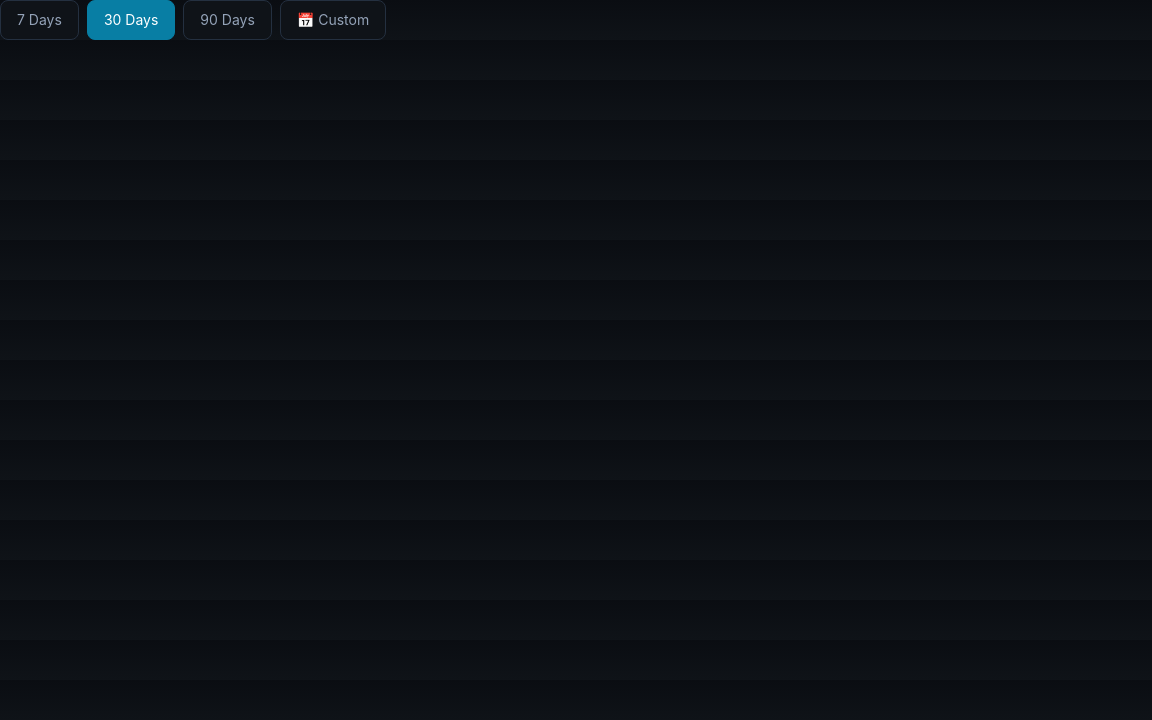
Scenario: DateRangePicker Component › disables apply when a custom date field is cleared
Click the button "📅 Custom": (333, 20) left=280, top=0, right=386, bottom=40
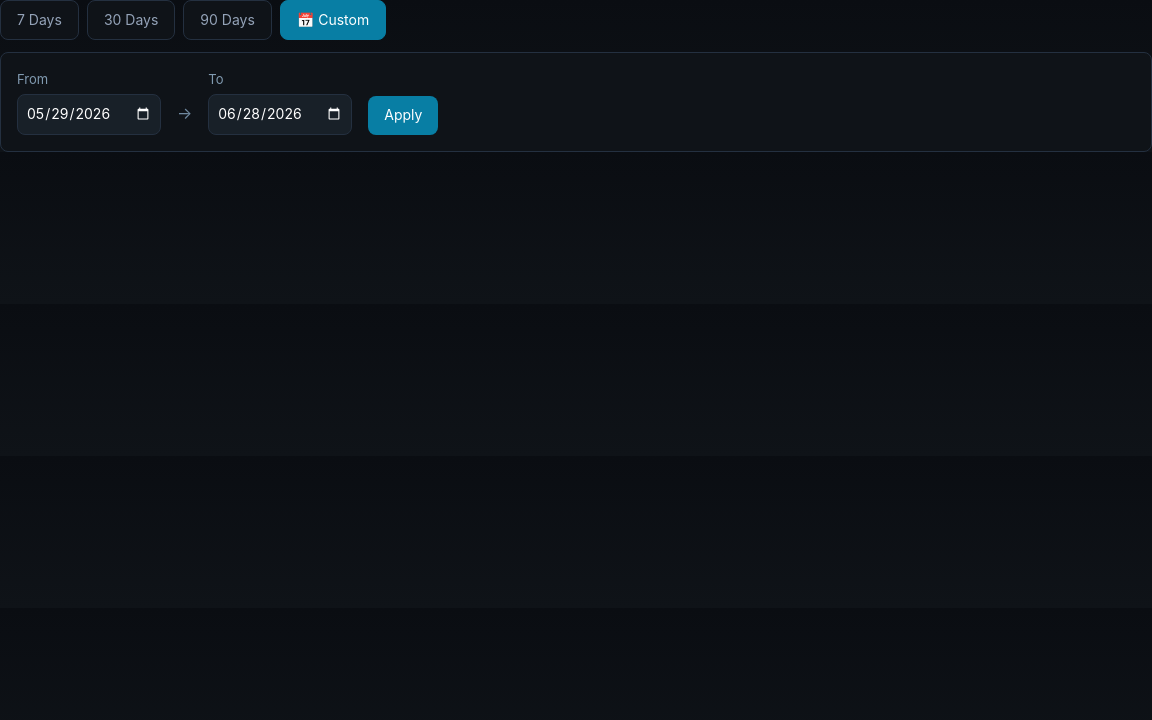
Result: the button "Apply" is enabled at left=368, top=96, right=438, bottom=135
Clear the date field labelled "To": (280, 114) left=208, top=94, right=352, bottom=135
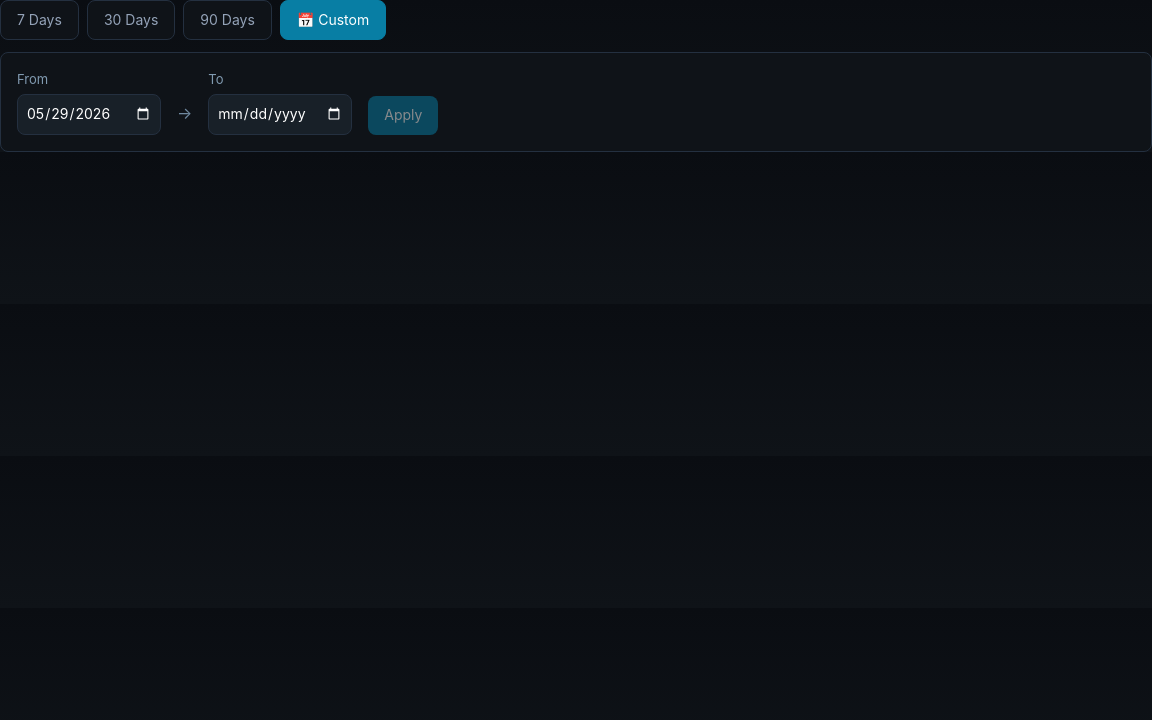
Result: the button "Apply" is disabled at left=368, top=96, right=438, bottom=135
